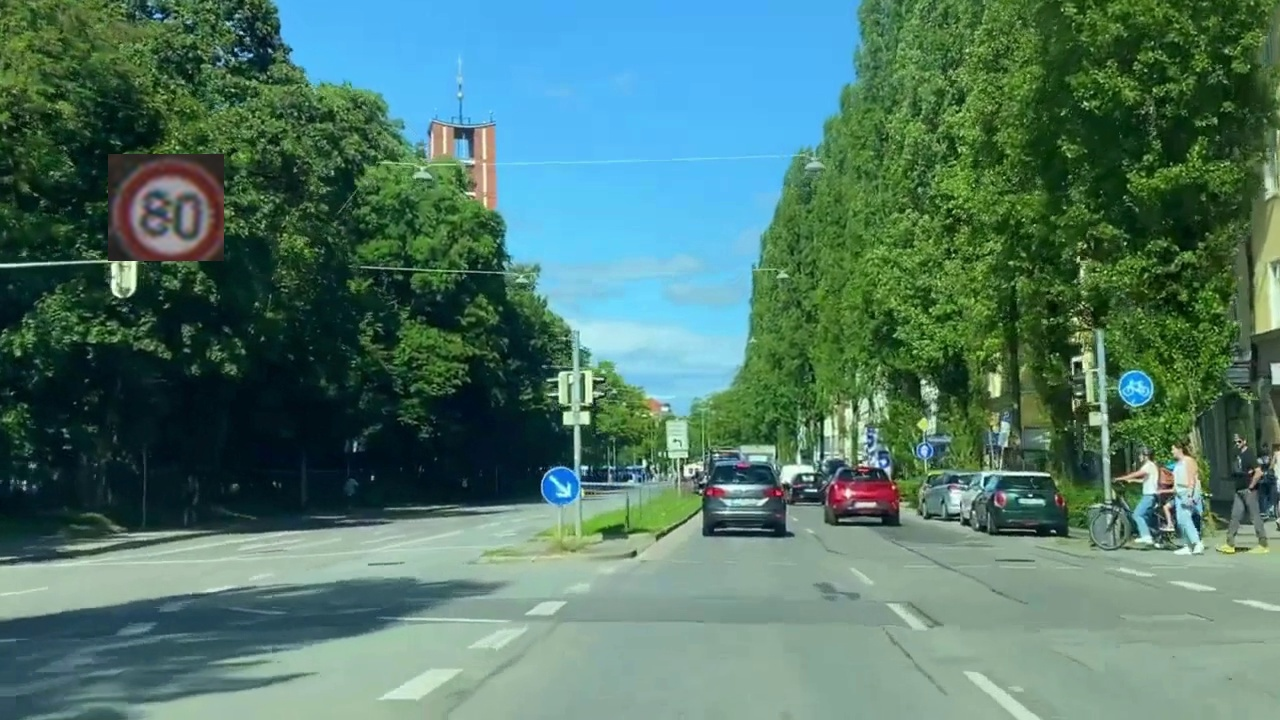Speed 80: (108, 154, 224, 261)
